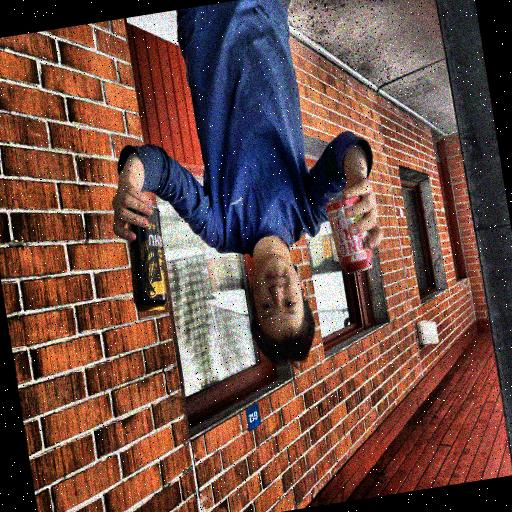karhu: (104, 190, 182, 326)
koff: (313, 173, 388, 280)
